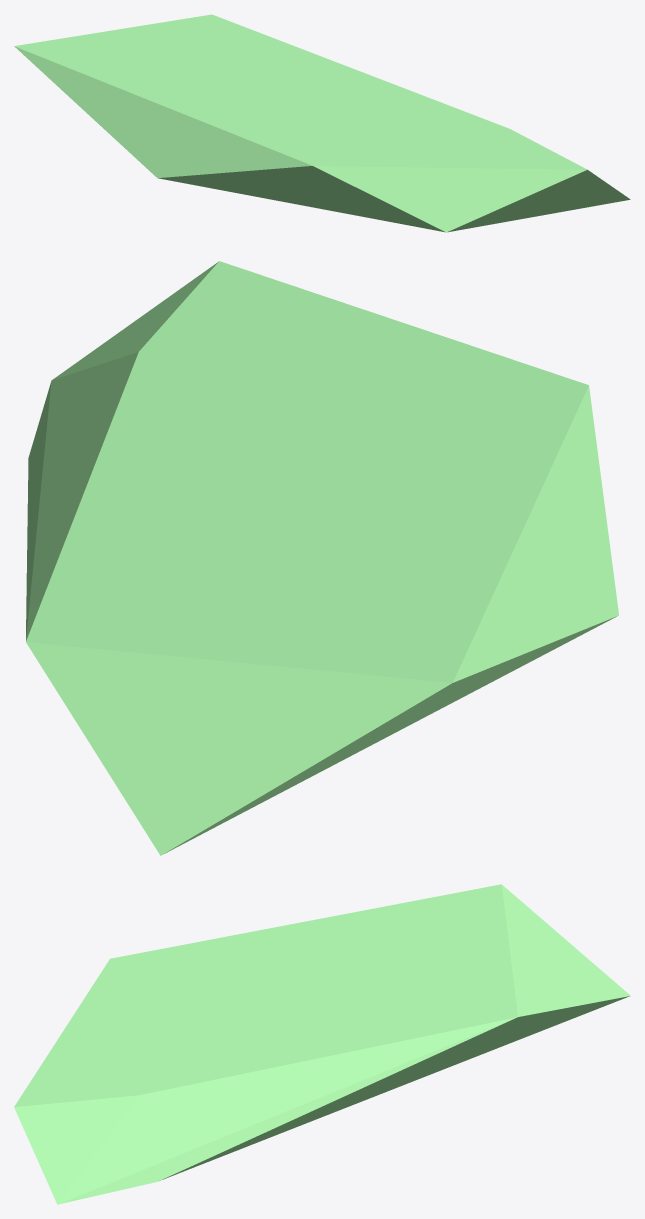
Rendered from UMIRobot_UMIRobot_link_4_convex_coll_4.dae.
3 renders of one model, top to bottom at view 1: azimuth 30°, elevation 25°; view 2: azimuth 150°, elevation 25°; view 3: azimuth 270°, elevation 25°, orthographic. The views are drawn at different scales.
Parts seen in each view (by area): view 1: node; view 2: node; view 3: node.
Boxes of the visible parts, left/top/right/bottom form: node: left=14, top=14, right=630, bottom=232; node: left=26, top=261, right=618, bottom=855; node: left=14, top=884, right=630, bottom=1204.
Bounding box in the file's own units: 0.0155 × 0.00364 × 0.0189.
